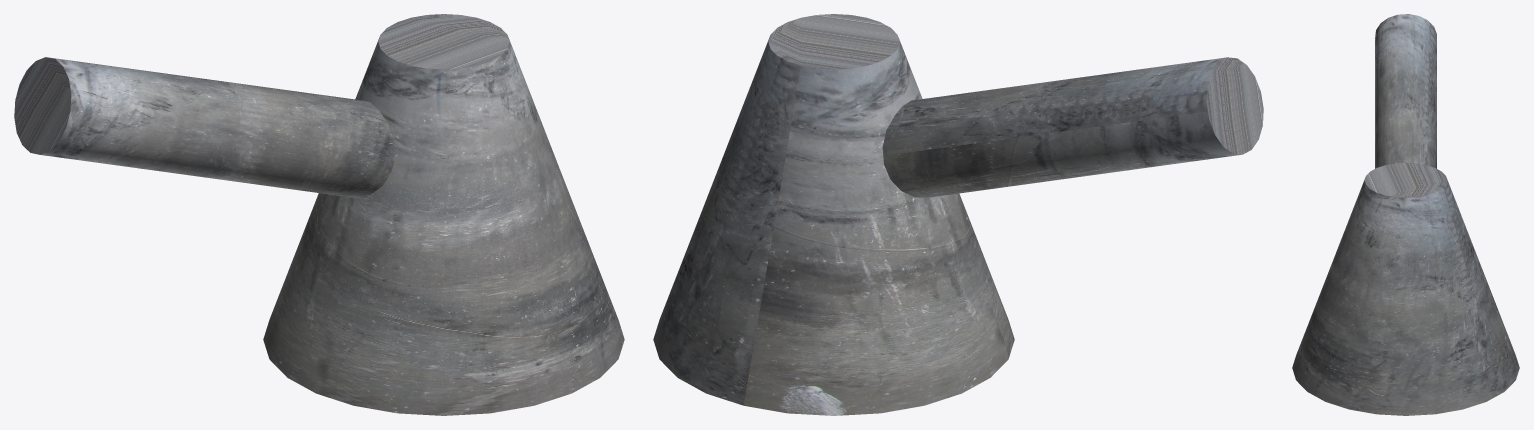
Rendered from showerhead.FBX.
The picture shows the model from 3 angles, left to right: view 1: azimuth 30°, elevation 25°; view 2: azimuth 150°, elevation 25°; view 3: azimuth 270°, elevation 25°; orthographic projection. The views are drawn at different scales.
Parts seen in each view (by area): view 1: Cone001; view 2: Cone001; view 3: Cone001.
Part boxes in pixels (x1,y1,x2,y2): Cone001: (14,14,624,415); Cone001: (653,14,1263,415); Cone001: (1292,14,1519,415).
Size of the model in its own units: 40.21 by 22 by 25.07.
Materials: 1 (1 with a texture image).
